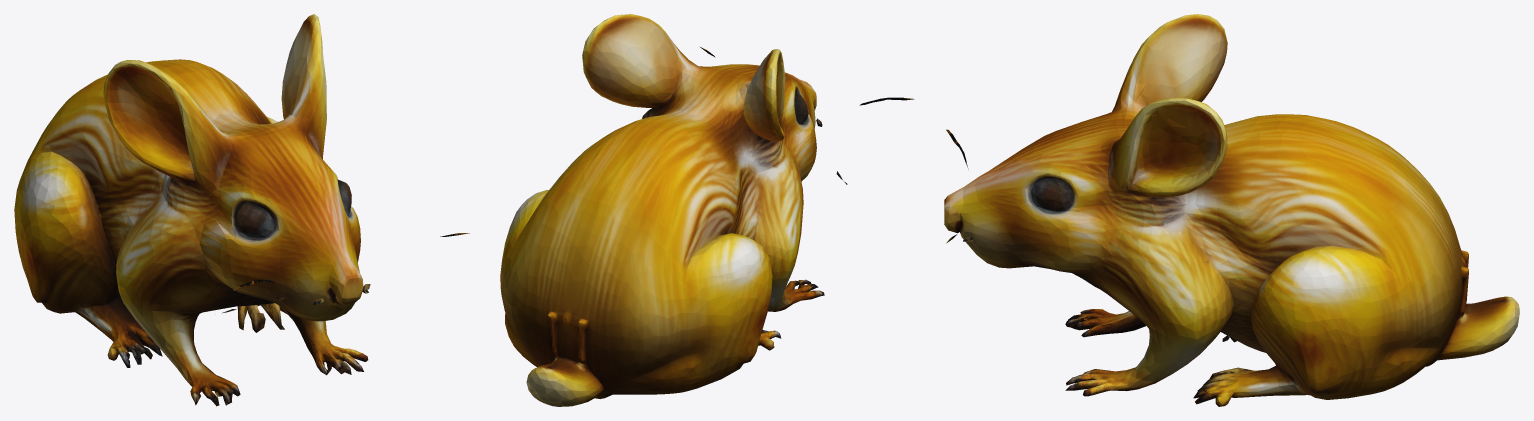
File: hand-carved-horn-mouse-vintage.jpeg.glb
The picture shows the model from 3 angles, left to right: view 1: azimuth 30°, elevation 25°; view 2: azimuth 150°, elevation 25°; view 3: azimuth 270°, elevation 25°; orthographic projection. The views are drawn at different scales.
Visible parts, largest first — view 1: world; view 2: world; view 3: world.
Boxes of the visible parts, x1,y1,x2,y2 form: world: (14,14,469,406); world: (500,14,914,406); world: (944,14,1519,406).
Bounding box in the file's own units: 0.5438 × 0.5907 × 0.9995.
1 material, 1 textured.
